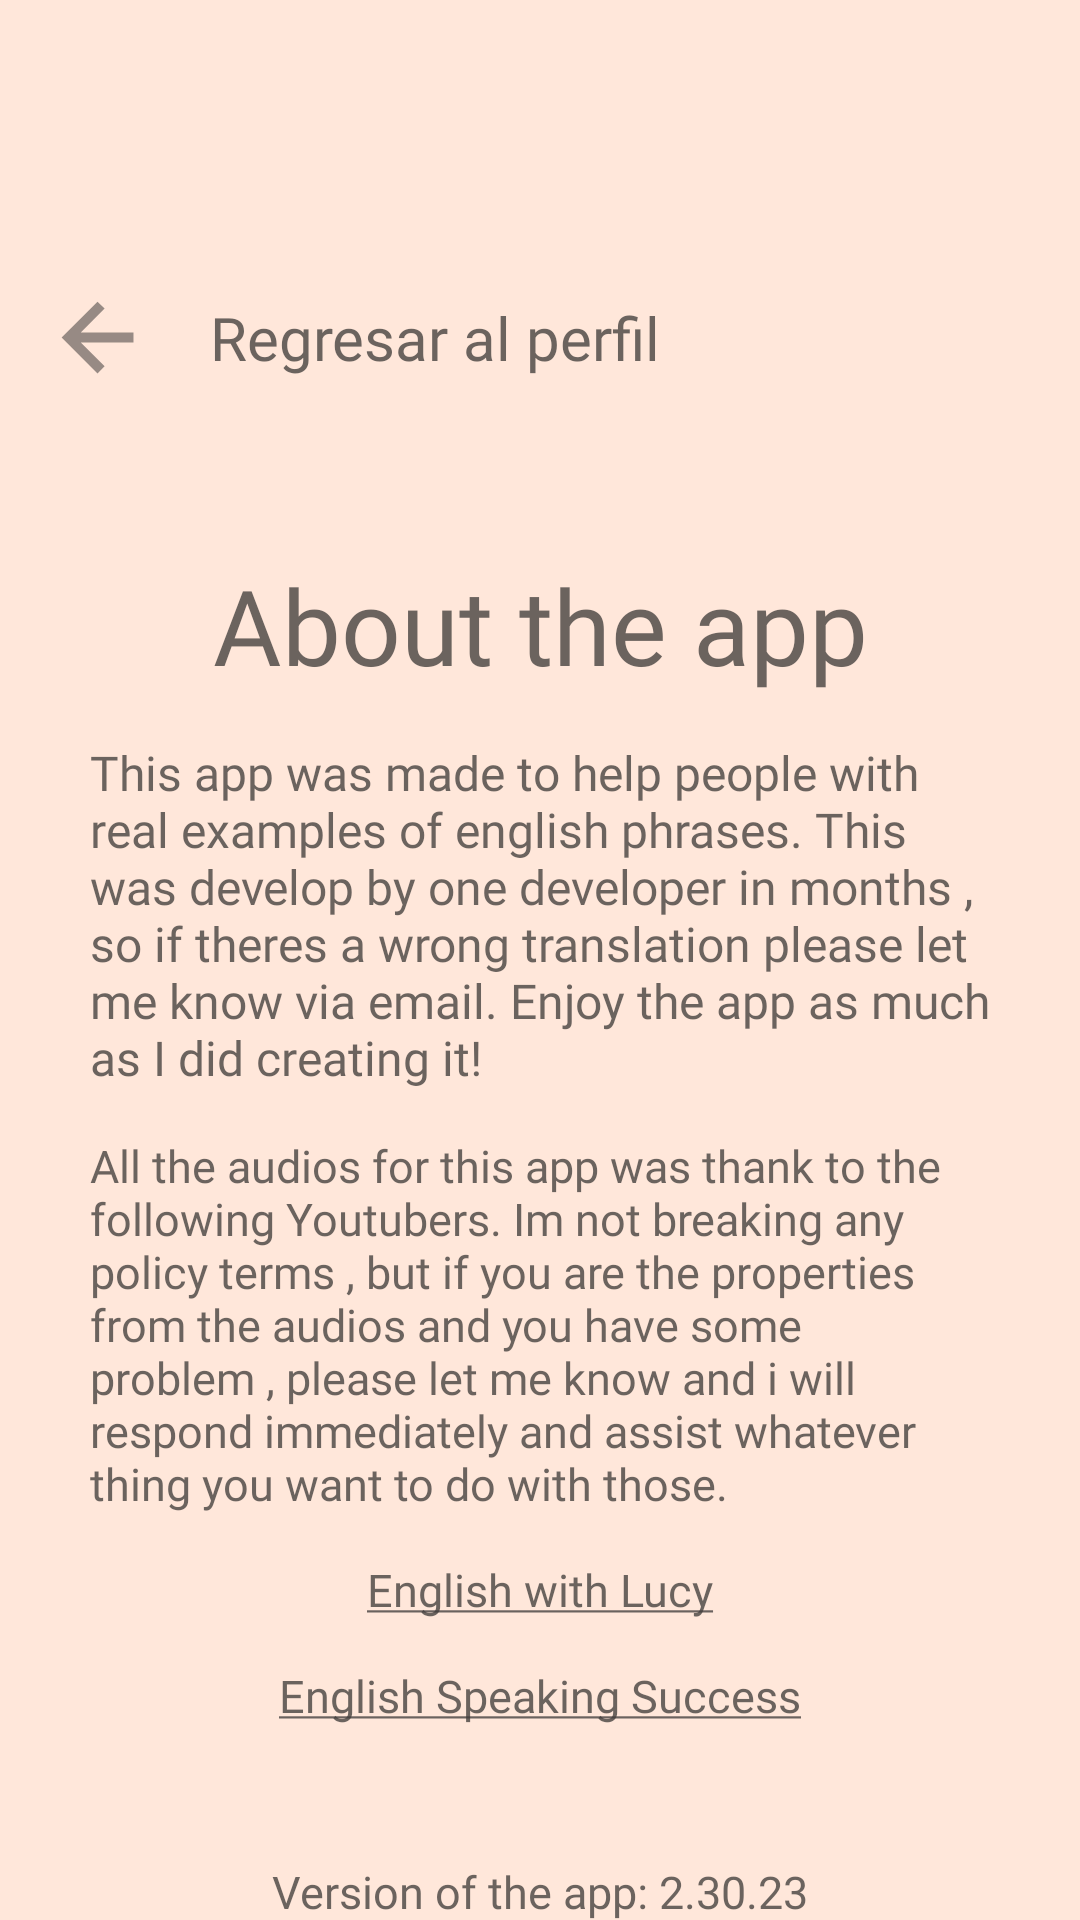

Named icons in this screenshot (1080px x 1920px) and their bounding boxes, (x1, y1, x2, y2):
arrow back: (62, 302, 134, 374)
